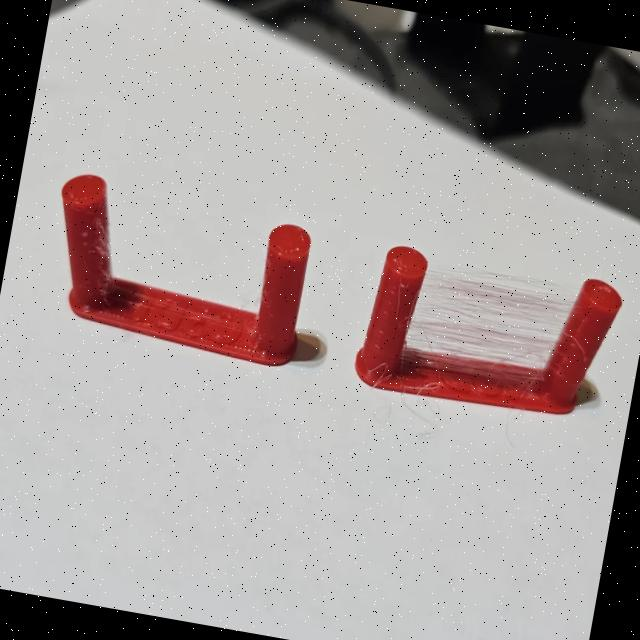stringing: (400, 264, 582, 381), (97, 211, 115, 294)
